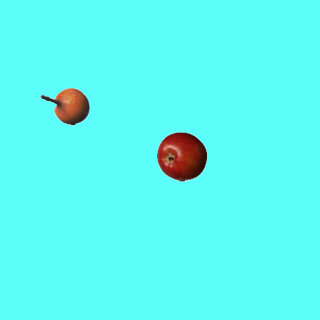Apple Braeburn: (156, 131, 206, 181)
Granadilla: (39, 81, 89, 131)
